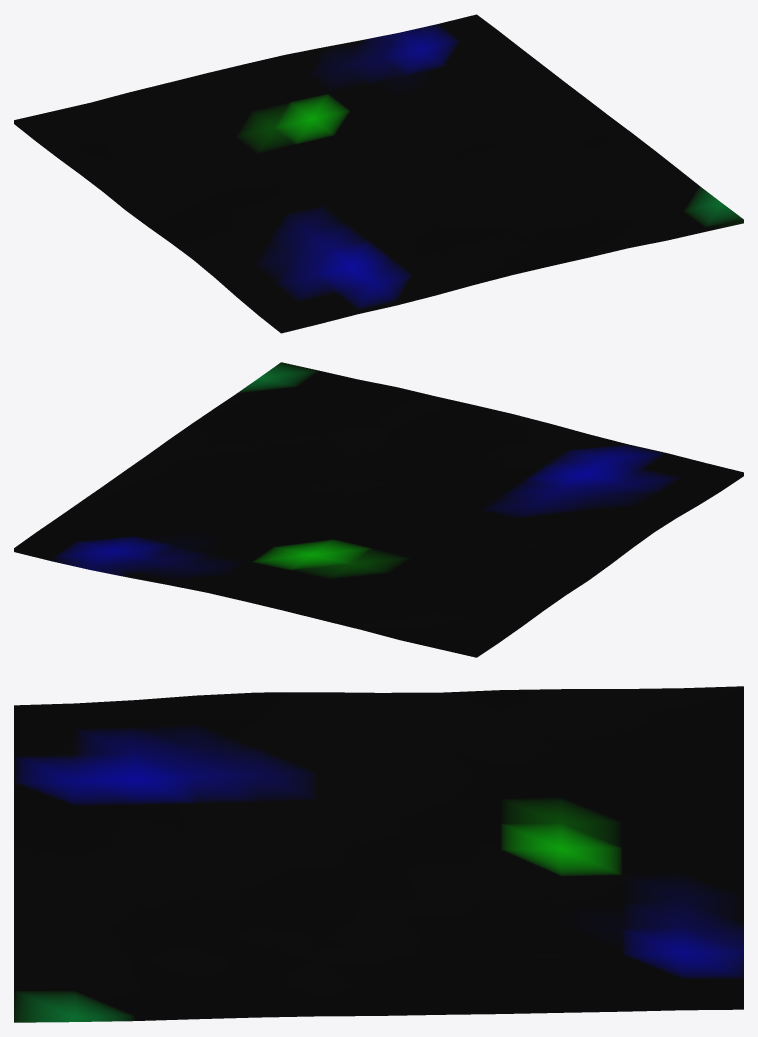
The model's file is coast_20_6.glb.
The picture shows the model from 3 angles, top to bottom: view 1: azimuth 30°, elevation 25°; view 2: azimuth 150°, elevation 25°; view 3: azimuth 270°, elevation 25°; orthographic projection. The views are drawn at different scales.
Parts seen in each view (by area): view 1: terrain; view 2: terrain; view 3: terrain.
Boxes of the visible parts, <box> form: terrain: <box>14,14,743,333</box>; terrain: <box>14,362,743,657</box>; terrain: <box>14,686,743,1022</box>.
Size of the model in its own units: 192 by 8.11 by 192.
